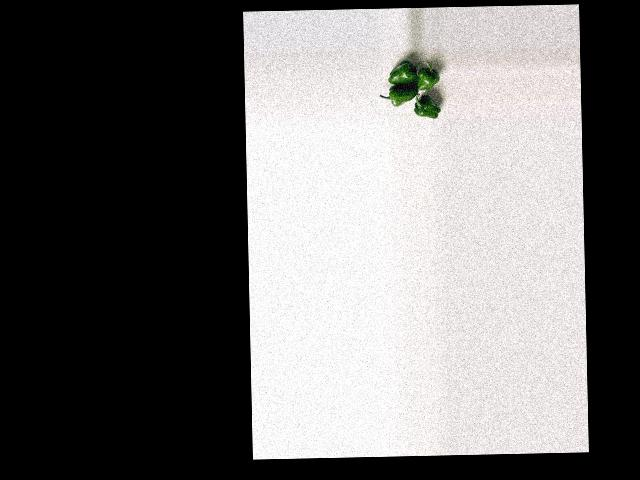bell_pepper: (418, 62, 439, 92)
